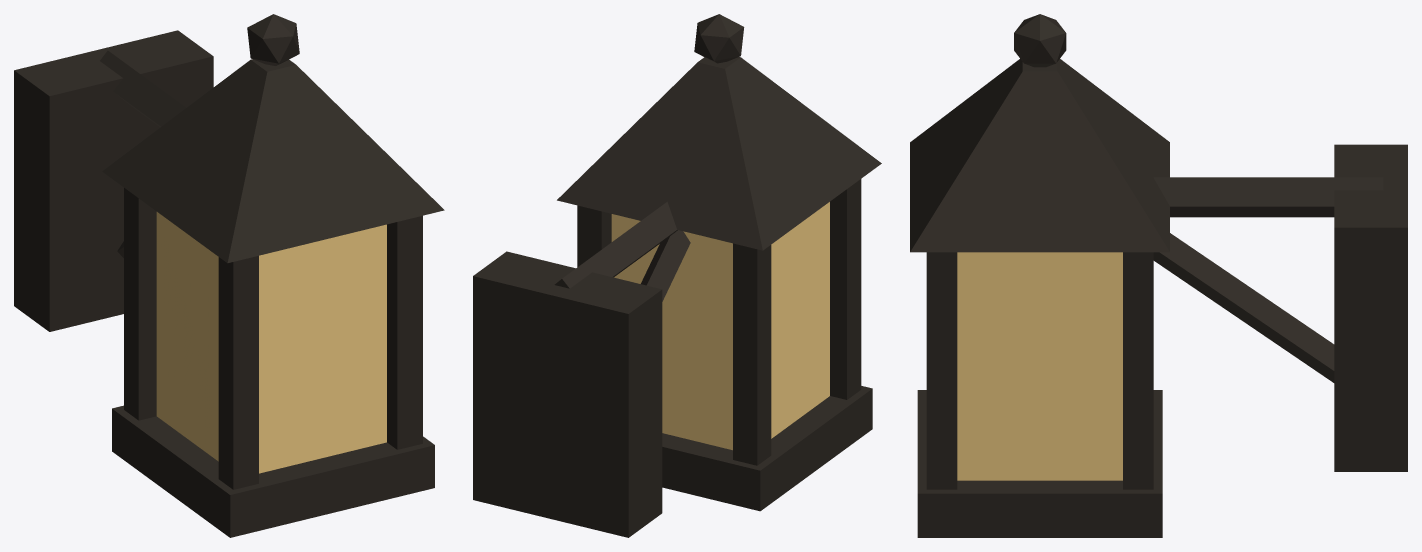
The model's file is wall-lantern.glb.
The picture shows the model from 3 angles, left to right: view 1: azimuth 30°, elevation 25°; view 2: azimuth 150°, elevation 25°; view 3: azimuth 270°, elevation 25°; orthographic projection. The views are drawn at different scales.
Visible parts, largest first — view 1: wall-lantern; view 2: wall-lantern; view 3: wall-lantern.
Boxes of the visible parts, left/top/right/bottom form: wall-lantern: left=14, top=14, right=444, bottom=537; wall-lantern: left=473, top=14, right=881, bottom=537; wall-lantern: left=910, top=14, right=1407, bottom=537.
Size of the model in its own units: 0.2121 by 0.425 by 0.4061.
